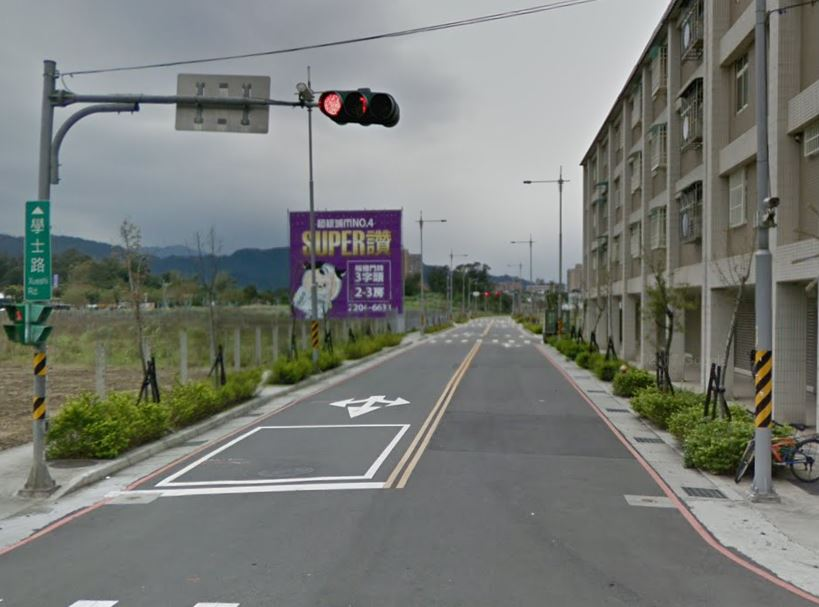Traffic_light_red: (318, 89, 400, 125)
